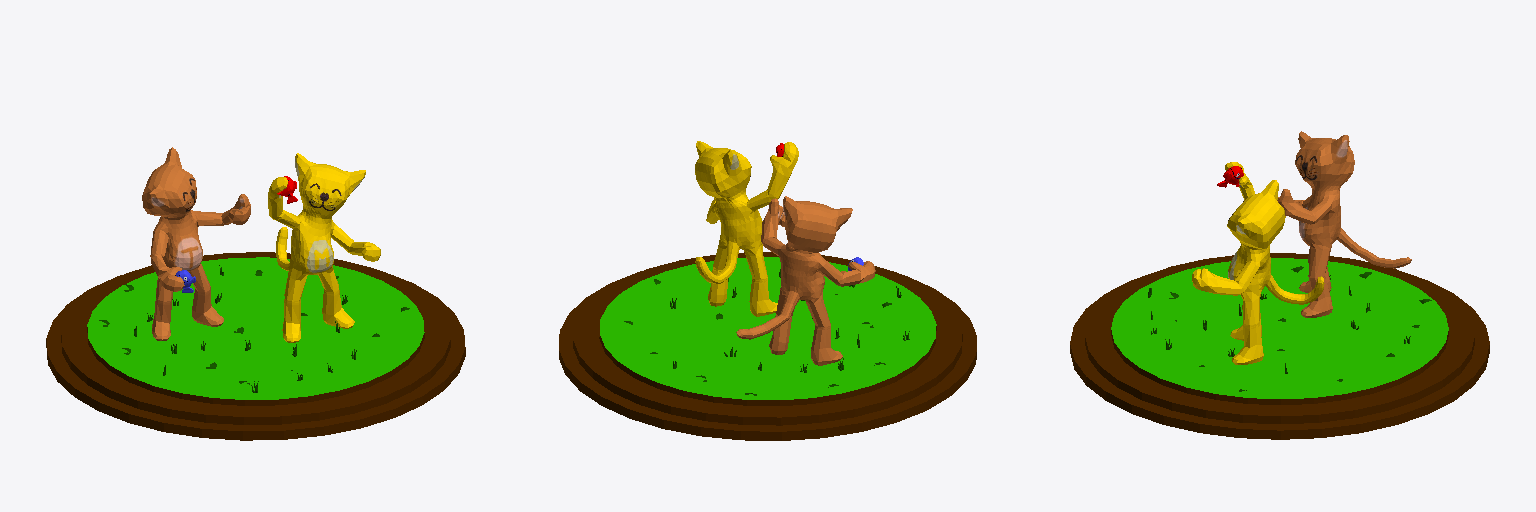
The picture shows the model from 3 angles: view 1: azimuth 30°, elevation 25°; view 2: azimuth 150°, elevation 25°; view 3: azimuth 270°, elevation 25°; orthographic projection.
Parts seen in each view (by area): view 1: Cylinder.001; view 2: Cylinder.001; view 3: Cylinder.001.
Boxes of the visible parts, x1=… form: Cylinder.001: x1=46, y1=147, x2=465, y2=440; Cylinder.001: x1=559, y1=141, x2=976, y2=440; Cylinder.001: x1=1070, y1=131, x2=1489, y2=439.
Bounding box in the file's own units: 1.67 × 0.8466 × 1.67.
Materials: 7 (4 with a texture image).